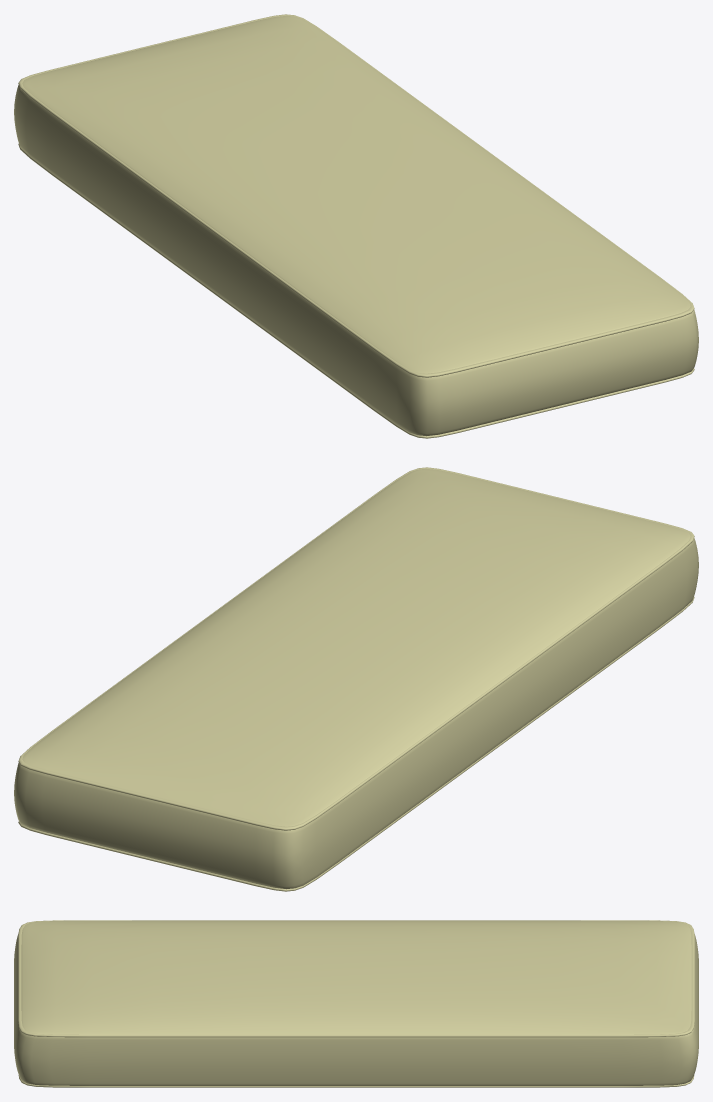
File: sofaCushionSeatSingle.glb
3 renders of one model, top to bottom at view 1: azimuth 30°, elevation 25°; view 2: azimuth 150°, elevation 25°; view 3: azimuth 270°, elevation 25°, orthographic. The views are drawn at different scales.
Visible parts, largest first — view 1: cushion, welting; view 2: cushion, welting; view 3: cushion, welting.
Boxes of the visible parts, bbox=[...] form: cushion: bbox=[14, 15, 698, 436]; welting: bbox=[18, 14, 694, 438]; cushion: bbox=[14, 468, 698, 889]; welting: bbox=[18, 467, 694, 891]; cushion: bbox=[14, 920, 698, 1085]; welting: bbox=[18, 920, 694, 1087].
Size of the model in its own units: 1.31 by 0.3357 by 3.24.
